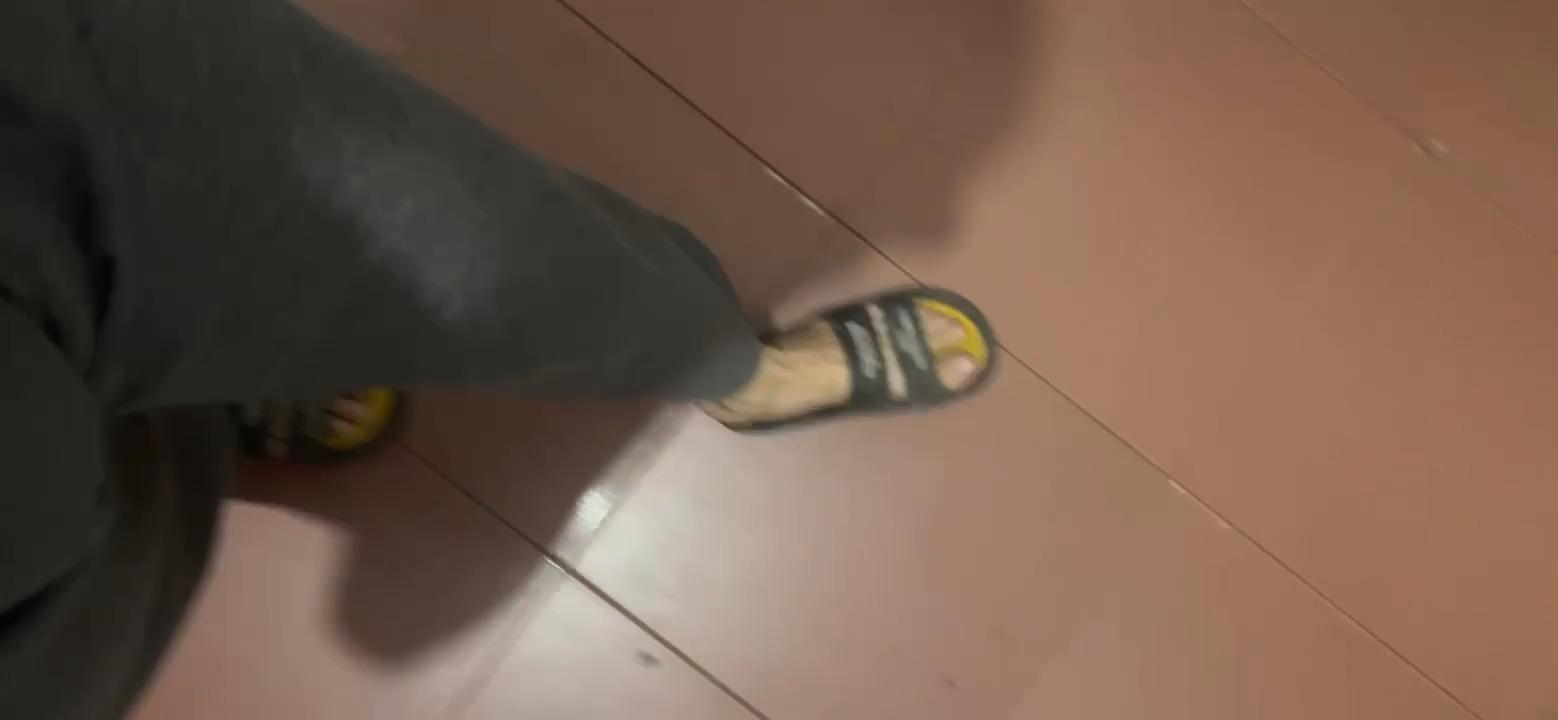no-boot: (697, 265, 1008, 430)
